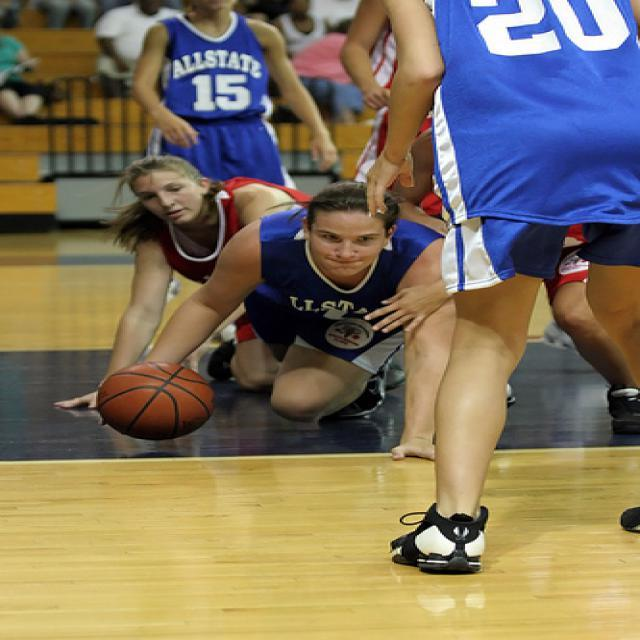basketball: (96, 362, 217, 440)
